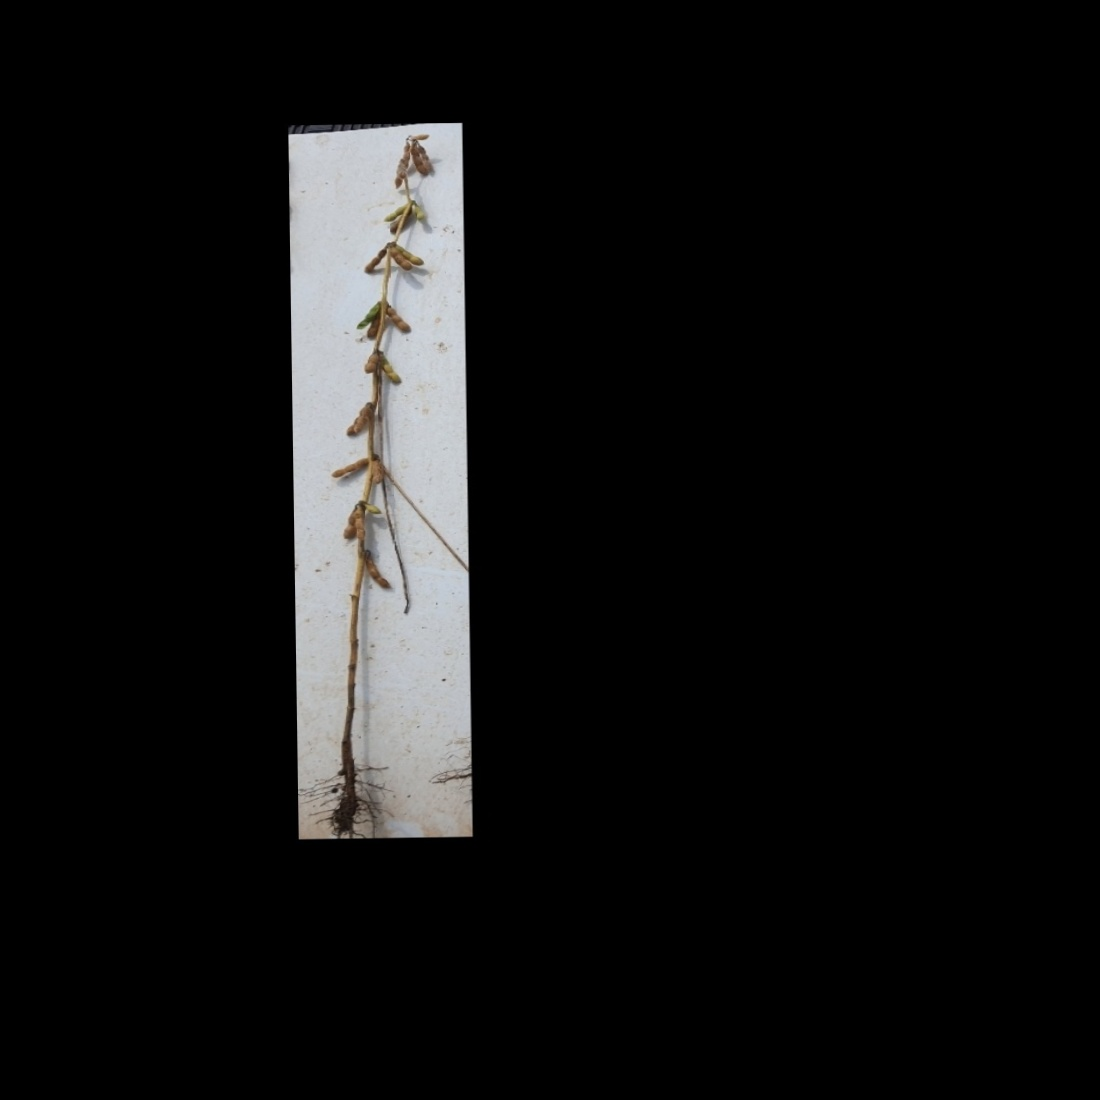pod: (362, 552, 391, 589), (330, 454, 371, 479), (377, 355, 404, 385), (361, 245, 388, 274), (383, 304, 409, 332), (368, 456, 383, 485), (358, 500, 384, 516), (361, 351, 379, 374), (413, 203, 429, 223), (409, 131, 431, 141)
soy: (308, 125, 455, 828)
